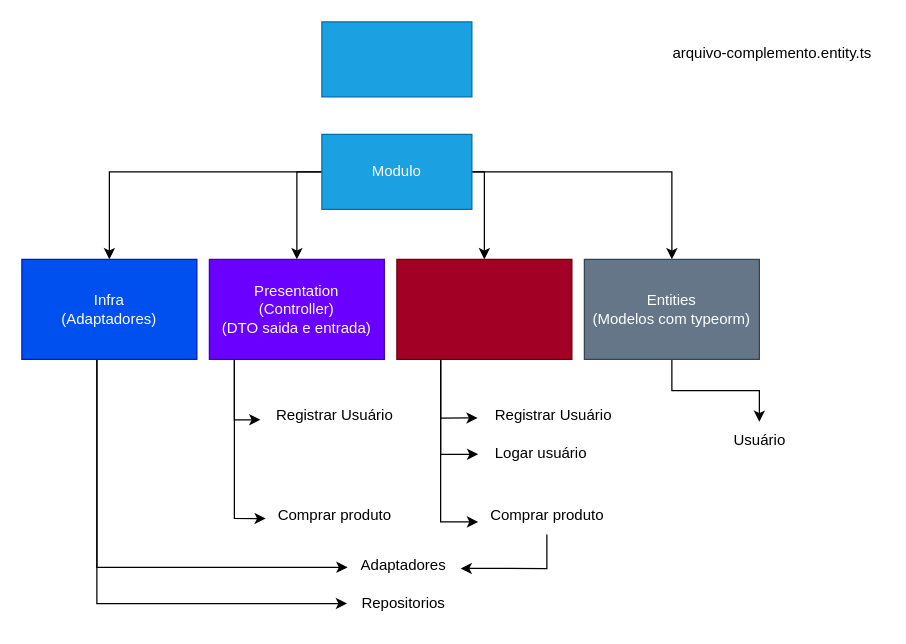
The diagram is 906 pixels wide and 644 high, and some of its shapes have lost their labels. The shapes that lost their labels are listed below. From the top down, each one's centre as x and y in pixels, then its label:
At pixel 396 59: "Shared / Commom".
At pixel 484 308: "Usecases (Services)".
